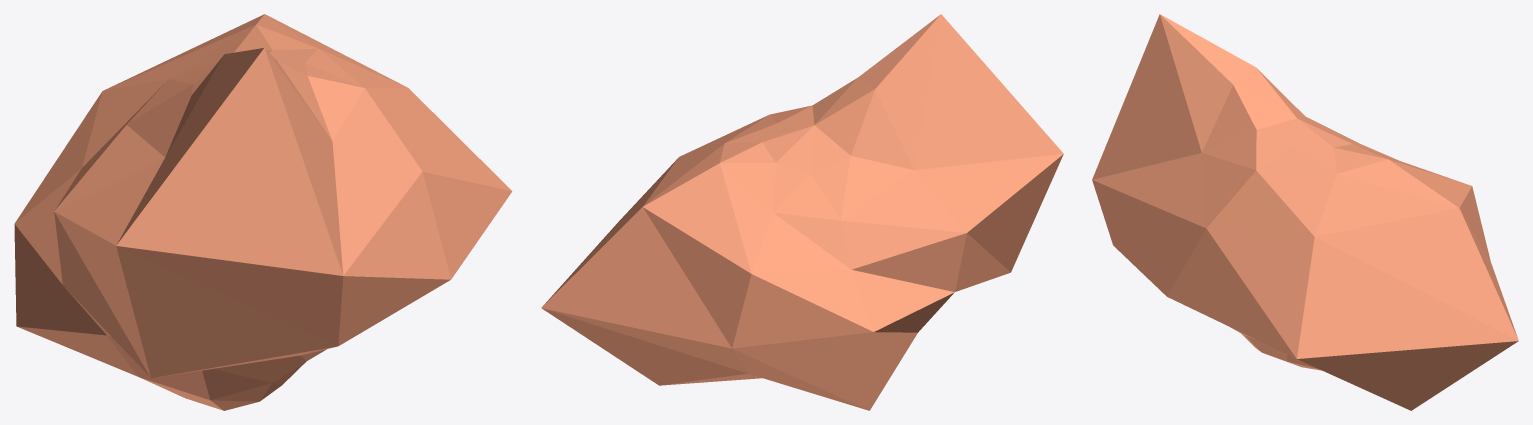
The model's file is stone1.fbx.
The picture shows the model from 3 angles, left to right: view 1: azimuth 30°, elevation 25°; view 2: azimuth 150°, elevation 25°; view 3: azimuth 270°, elevation 25°; orthographic projection. The views are drawn at different scales.
Visible parts, largest first — view 1: stone_obj; view 2: stone_obj; view 3: stone_obj.
Boxes of the visible parts, x1,y1,x2,y2 form: stone_obj: (14,14,512,410); stone_obj: (541,14,1063,410); stone_obj: (1092,14,1518,410).
Bounding box in the file's own units: 3.42 × 2.87 × 3.39.
